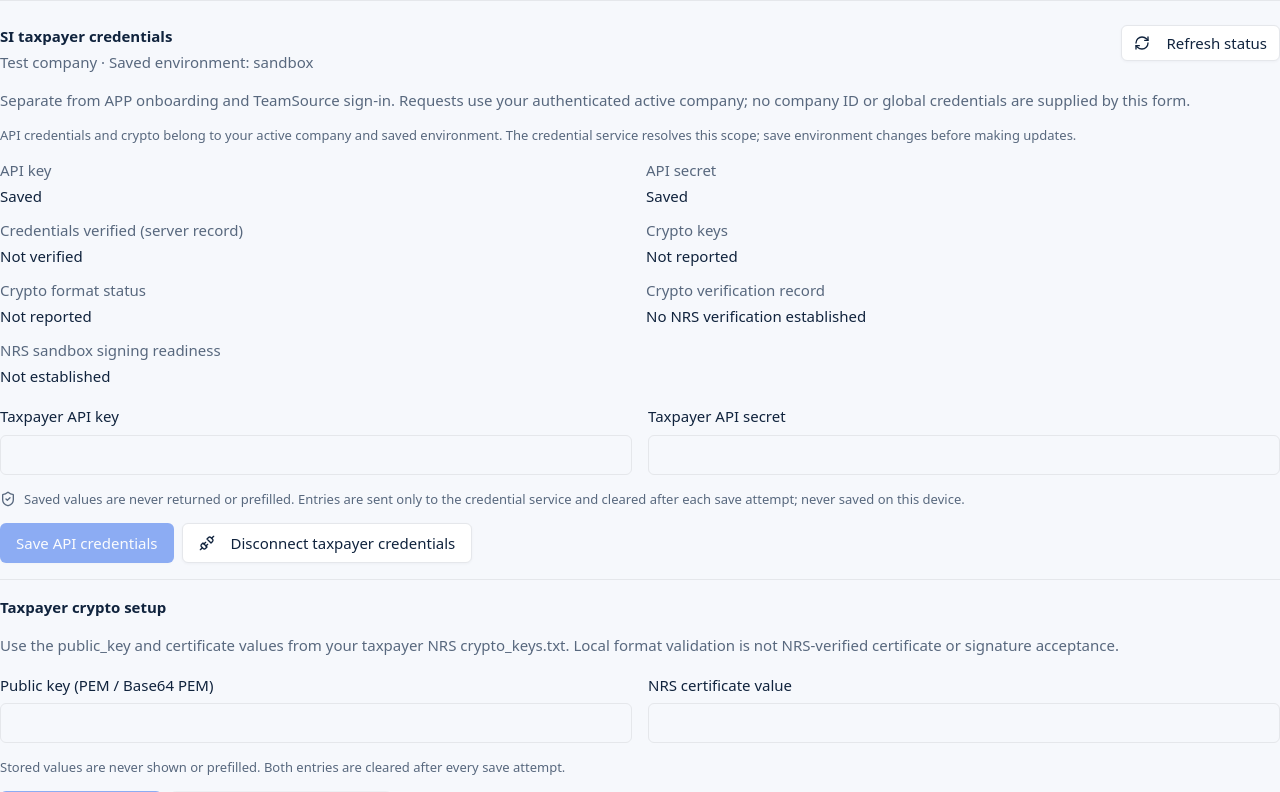
Test case: write-only taxpayer settings flow › requires confirmation to disconnect using only authenticated server scope
The image size is (1280, 792).
Step 1. Click the button "Disconnect taxpayer credentials" → click(327, 542), box [182,522,472,562]
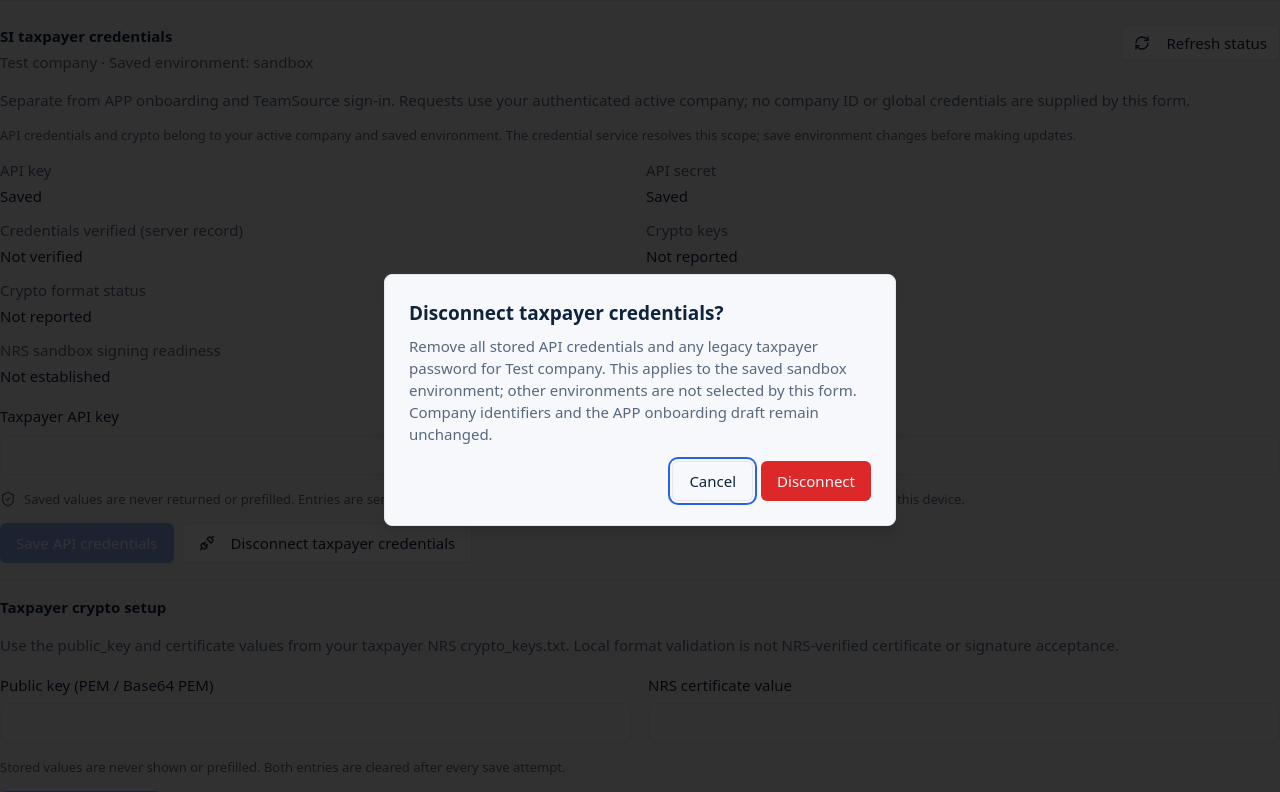
expect the dialog is shown: met, box [384,274,896,526]
Step 2. Click the button "Disconnect" → click(816, 481), box [761,461,871,501]
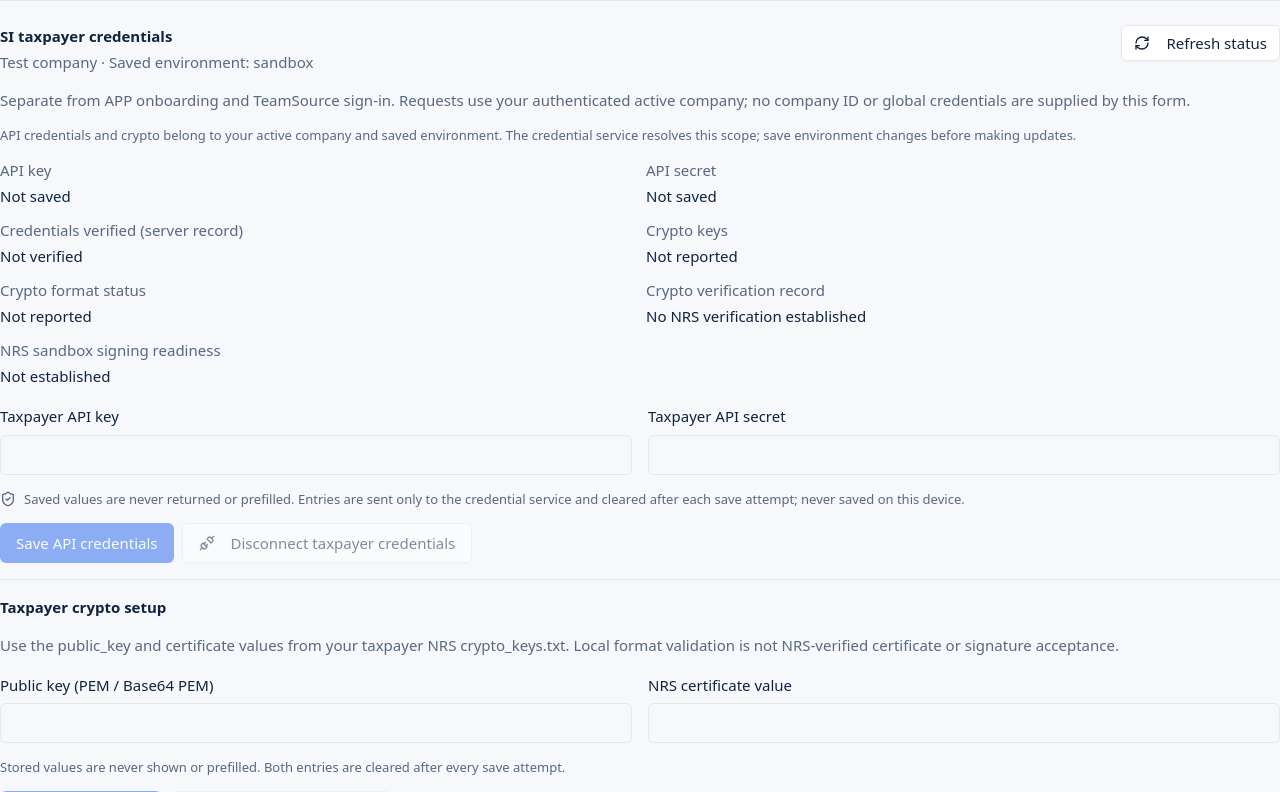
expect the button "Disconnect taxpayer credentials" is disabled: met, box [182,522,472,562]
